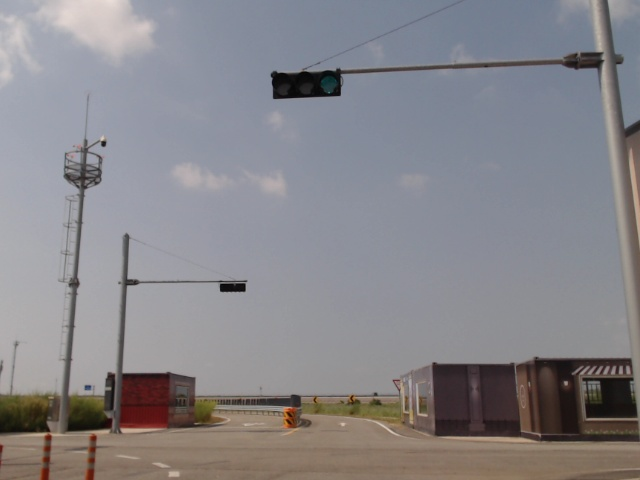green_3: (272, 71, 342, 99)
